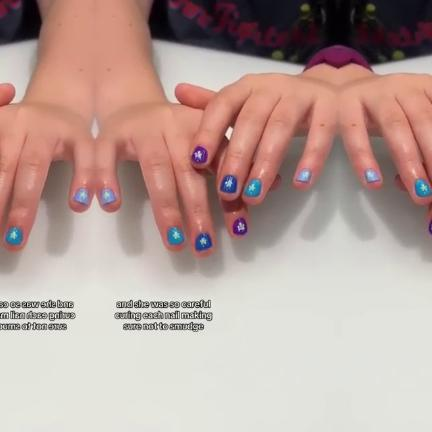Nail: (243, 179, 261, 197), (413, 179, 431, 197), (195, 232, 212, 251), (219, 175, 236, 193), (190, 146, 207, 164), (167, 227, 183, 245), (5, 227, 21, 245), (232, 218, 247, 236), (100, 188, 115, 206), (73, 188, 88, 206), (295, 169, 311, 183), (363, 169, 379, 183), (427, 218, 432, 236)
